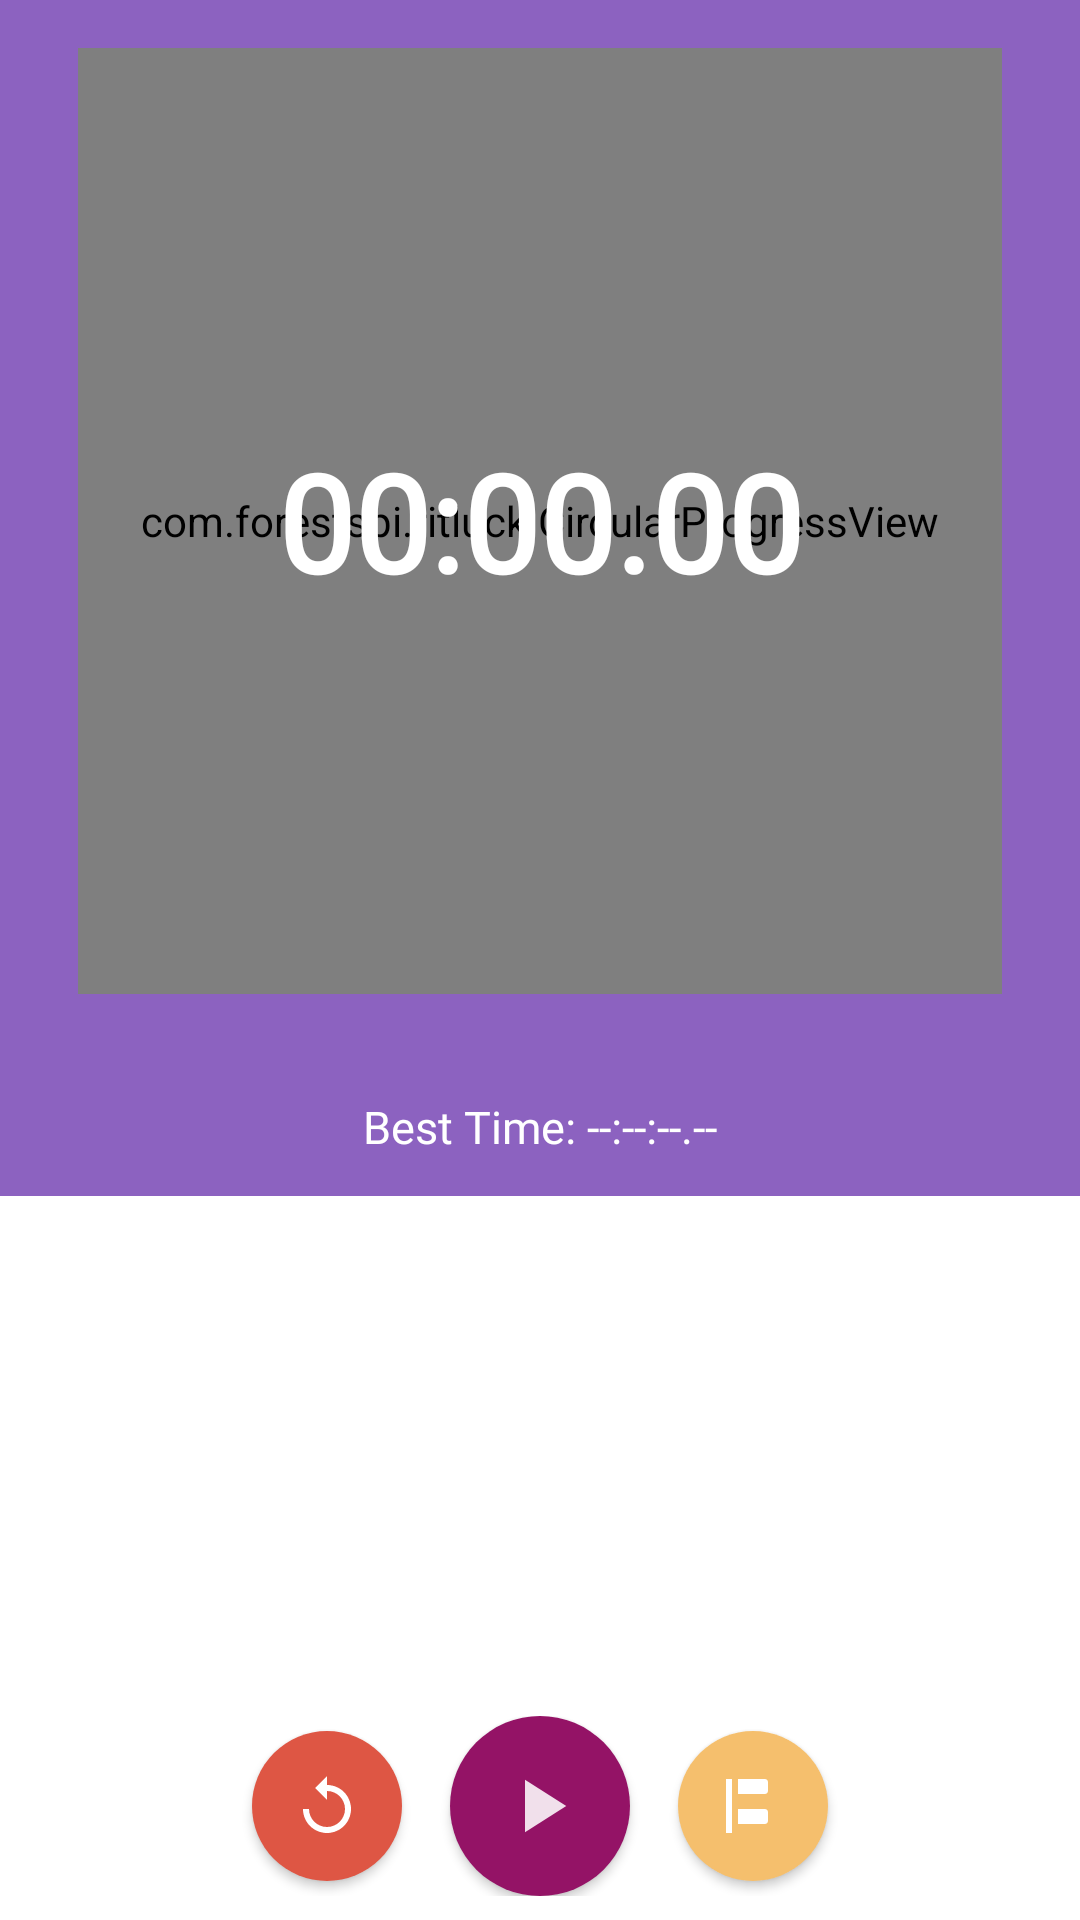

Locate icon controls on the screen. Image size 1080*1920, boxes as (left=x1, top=y1, right=x2, bottom=y2).
Lap: (left=678, top=1731, right=828, bottom=1881)
Reset: (left=252, top=1731, right=402, bottom=1881)
Start: (left=450, top=1716, right=630, bottom=1896)
